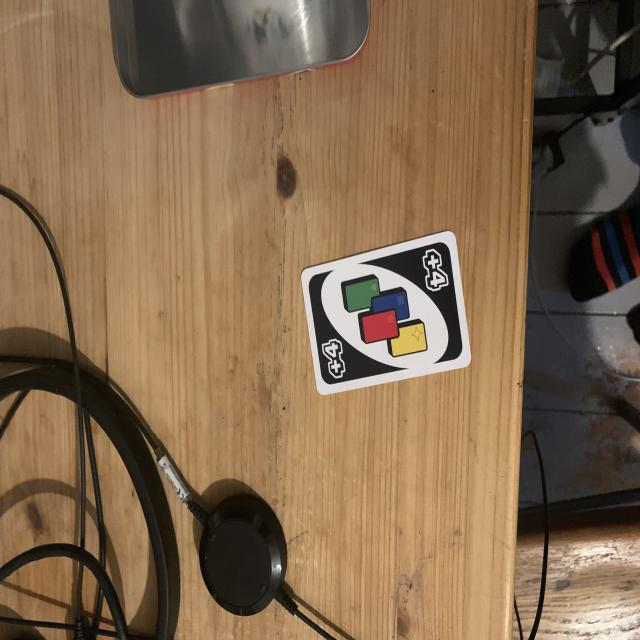lcolor-400: (414, 246, 459, 300)
